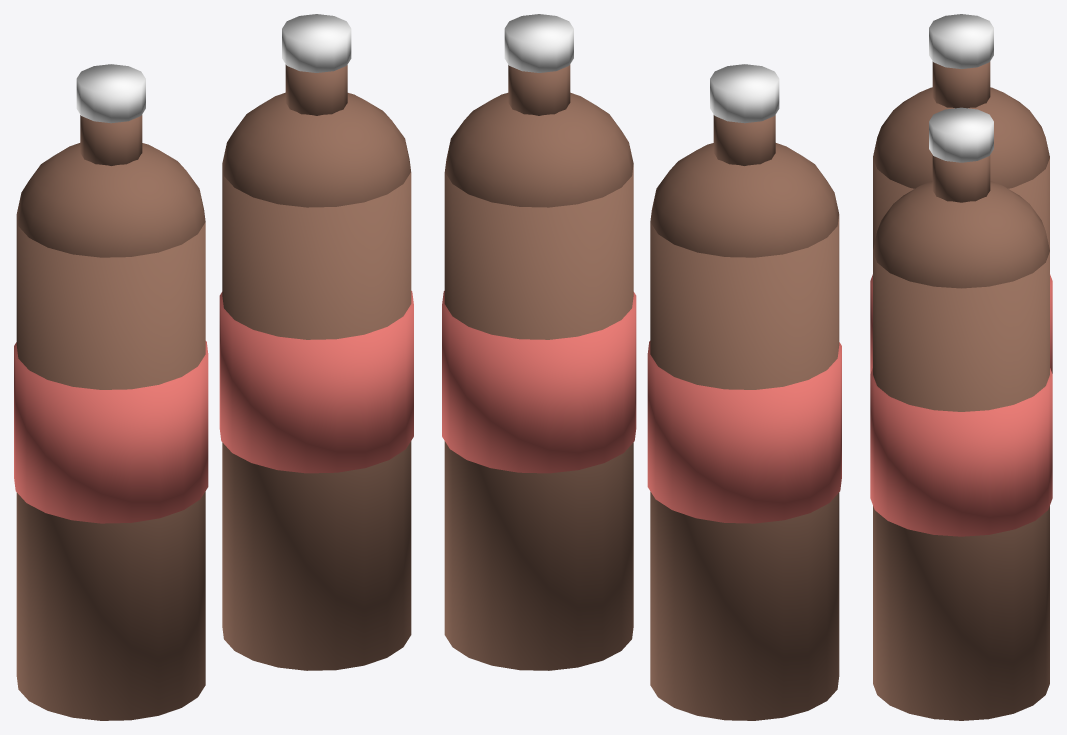
File: escena.casa.bebidas.fbx
3 views of the same model, side by side, from view 1: azimuth 30°, elevation 25°; view 2: azimuth 150°, elevation 25°; view 3: azimuth 270°, elevation 25° (orthographic). The views are drawn at different scales.
Visible parts, largest first — view 1: Botella, Botella.001, Etiqueta.001, Etiqueta, Hombro, Hombro.001, Tapa.001, Tapa, Cuello, Cuello.001; view 2: Botella, Botella.001, Etiqueta.001, Etiqueta, Hombro, Hombro.001, Tapa.001, Tapa, Cuello, Cuello.001; view 3: Botella, Etiqueta, Hombro, Hombro.001, Tapa, Tapa.001, Botella.001, Cuello, Cuello.001, Etiqueta.001.
Part boxes in pixels (x1,y1,x2,y2): Botella: (222,165,411,670); Botella.001: (16,214,205,720); Etiqueta.001: (14,341,208,523); Etiqueta: (219,291,413,473); Hombro: (222,92,410,207); Hombro.001: (17,143,205,257); Tapa.001: (76,64,145,123); Tapa: (282,14,351,72); Cuello: (285,64,347,115); Cuello.001: (80,115,142,165); Botella: (444,165,633,670); Botella.001: (650,214,839,720); Etiqueta.001: (647,341,841,523); Etiqueta: (442,291,636,473); Hombro: (445,92,633,207); Hombro.001: (650,143,838,257); Tapa.001: (710,64,779,123); Tapa: (504,14,573,72); Cuello: (508,64,570,115); Cuello.001: (713,115,775,165); Botella: (873,252,1049,720); Etiqueta: (870,368,1052,536); Hombro: (873,181,1049,288); Hombro.001: (873,87,1049,188); Tapa: (929,107,993,162); Tapa.001: (929,14,993,68); Botella.001: (873,158,1049,249); Cuello: (932,155,990,202); Cuello.001: (932,61,990,108); Etiqueta.001: (870,274,1052,373).
Size of the model in its own units: 0.237 by 0.364 by 0.107.
